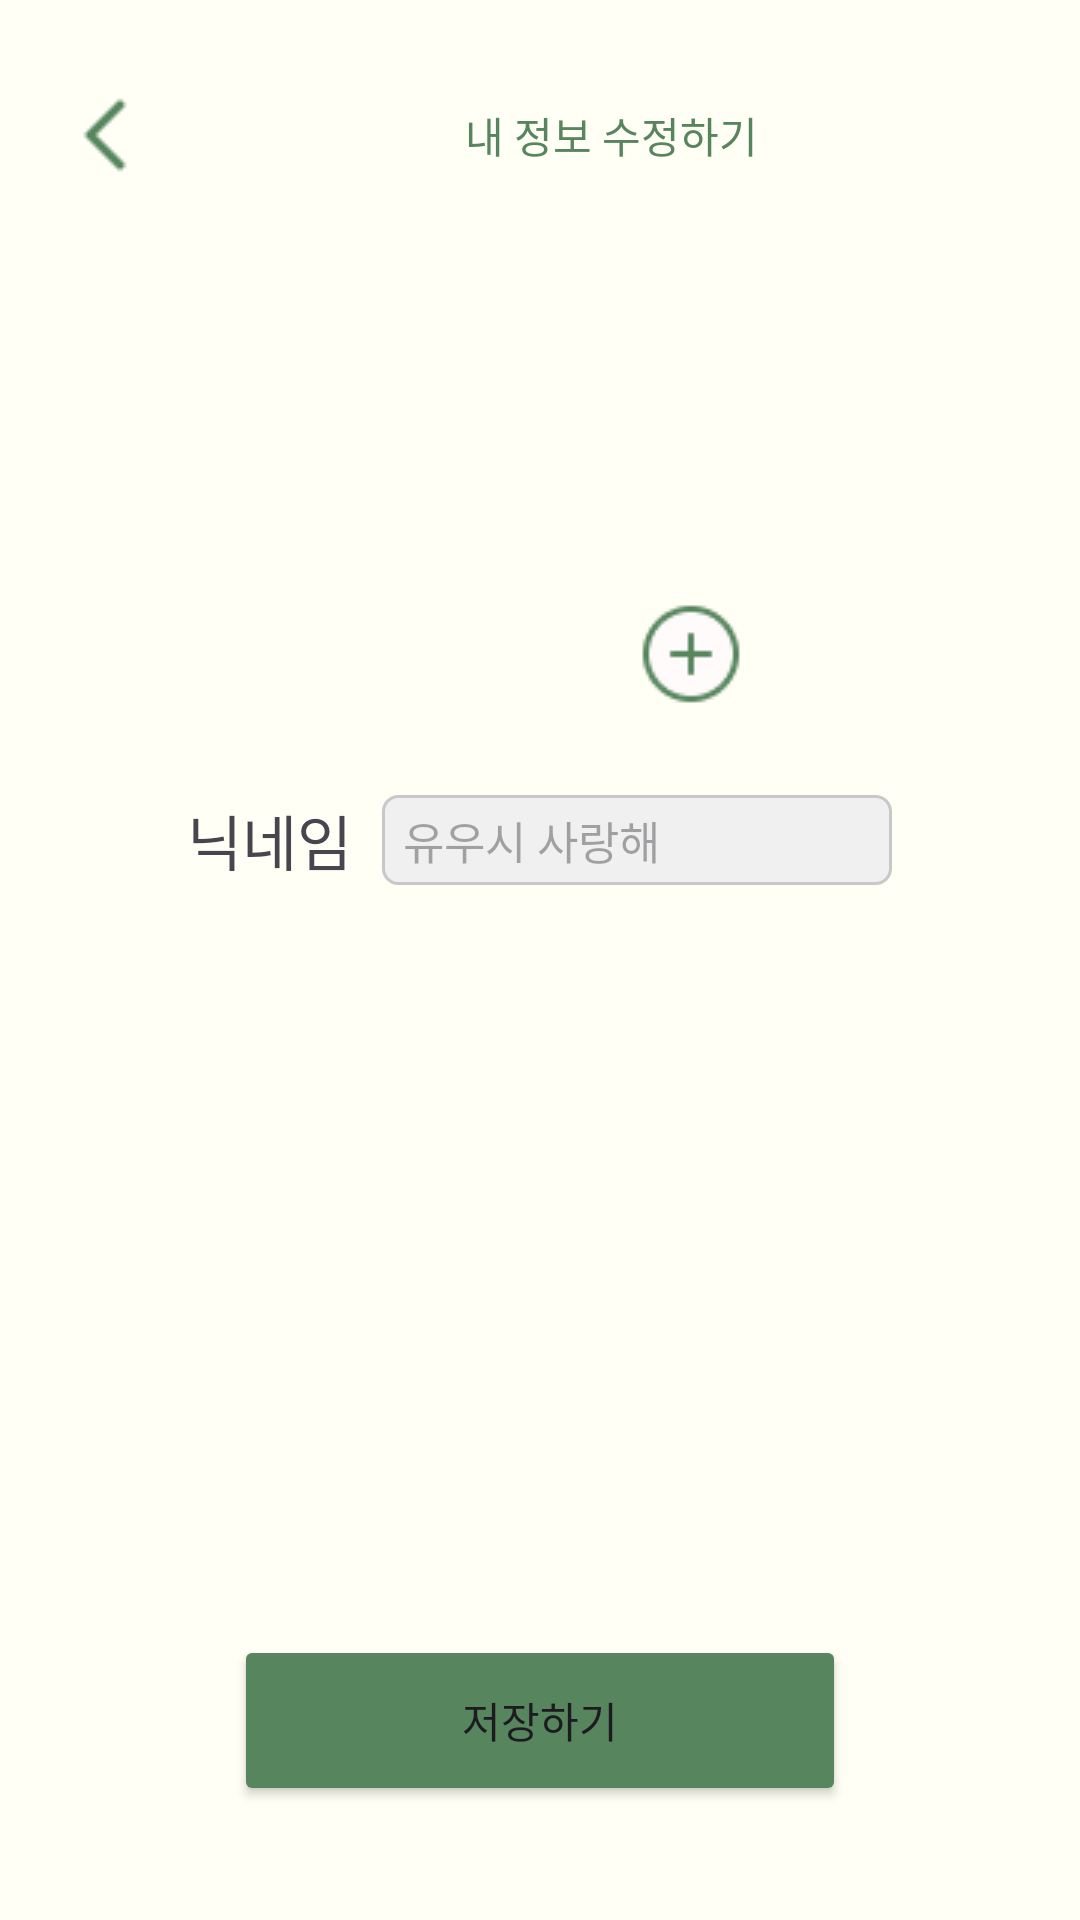

Where to tap for icons on this 1080px×1920px app screen, as (x,y):
arrow left: (105,135)
plus circle: (691,654)
